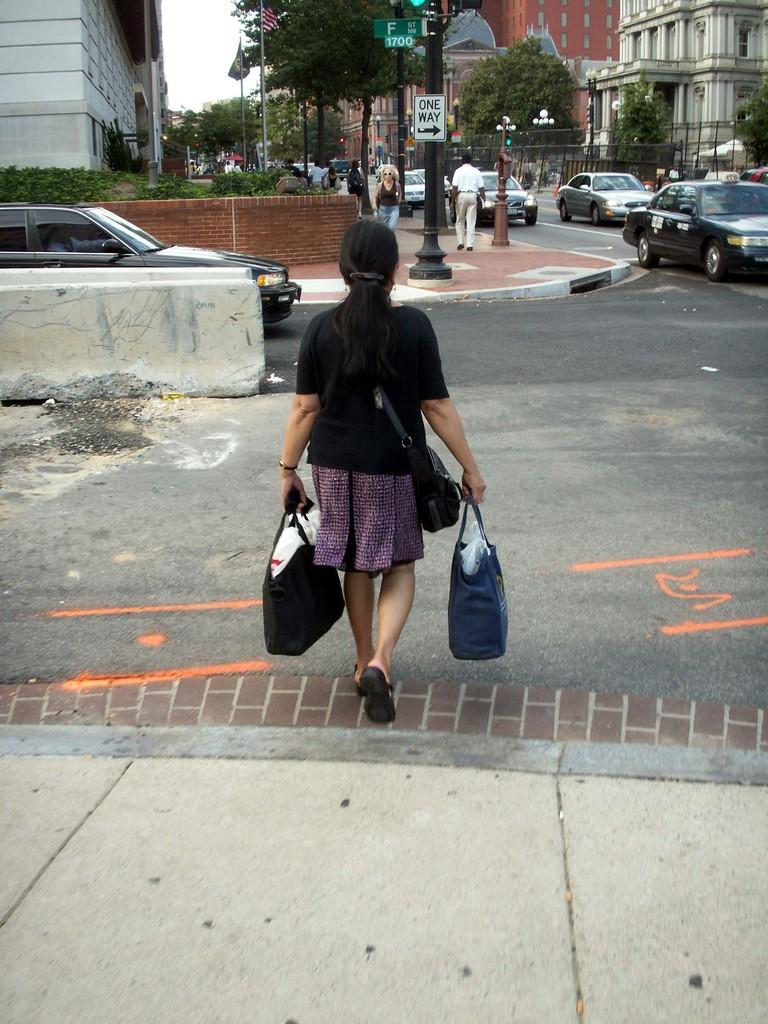Luggage-and-bags: (324, 307, 467, 532), (261, 478, 352, 653), (447, 486, 513, 664)
